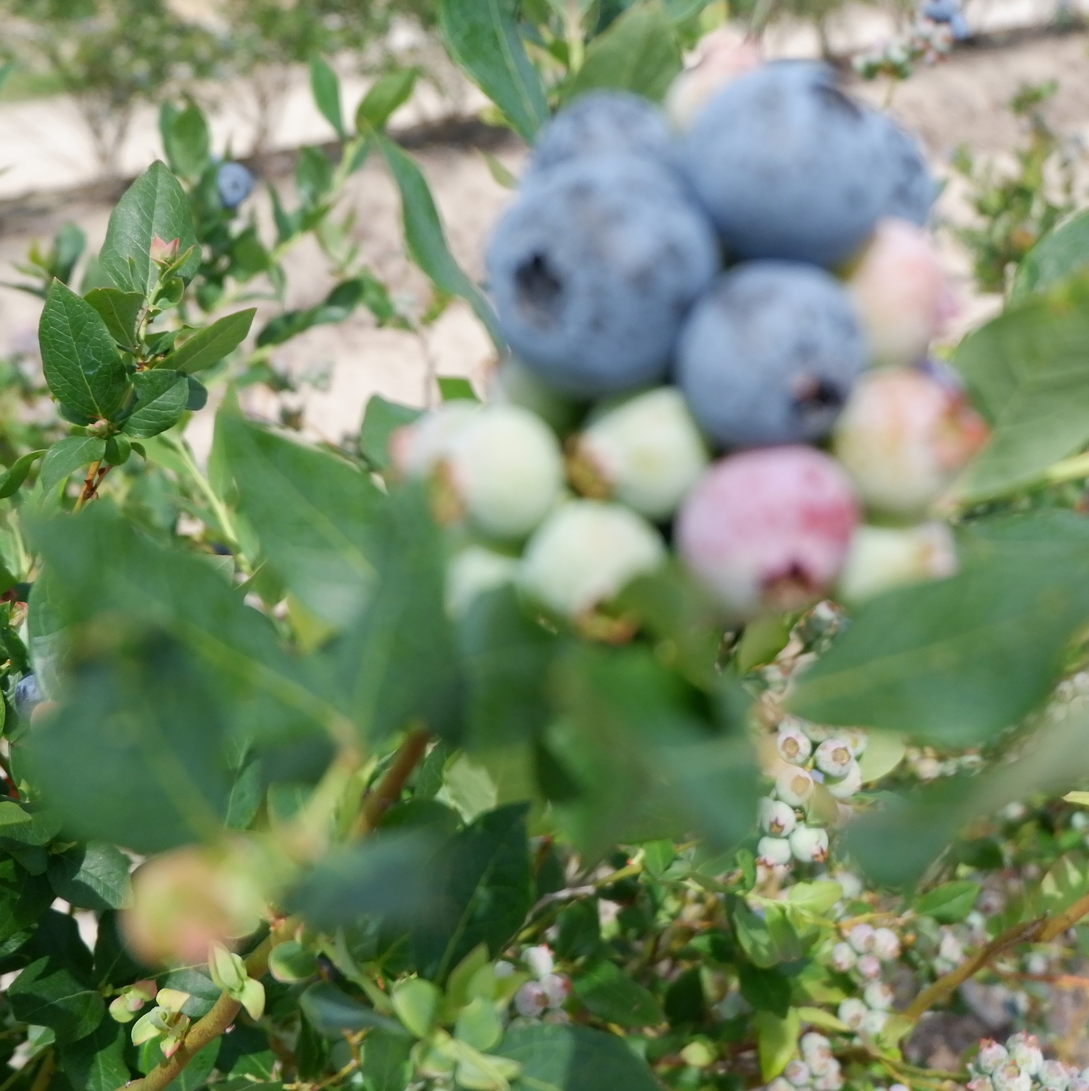Immature: (833, 367, 982, 522), (516, 501, 665, 637), (429, 404, 564, 539), (567, 389, 707, 517), (850, 222, 948, 362), (488, 352, 582, 434), (393, 402, 475, 475)
Mature: (491, 146, 718, 393), (684, 63, 930, 261), (678, 261, 867, 444), (679, 447, 863, 620), (534, 93, 673, 164)
